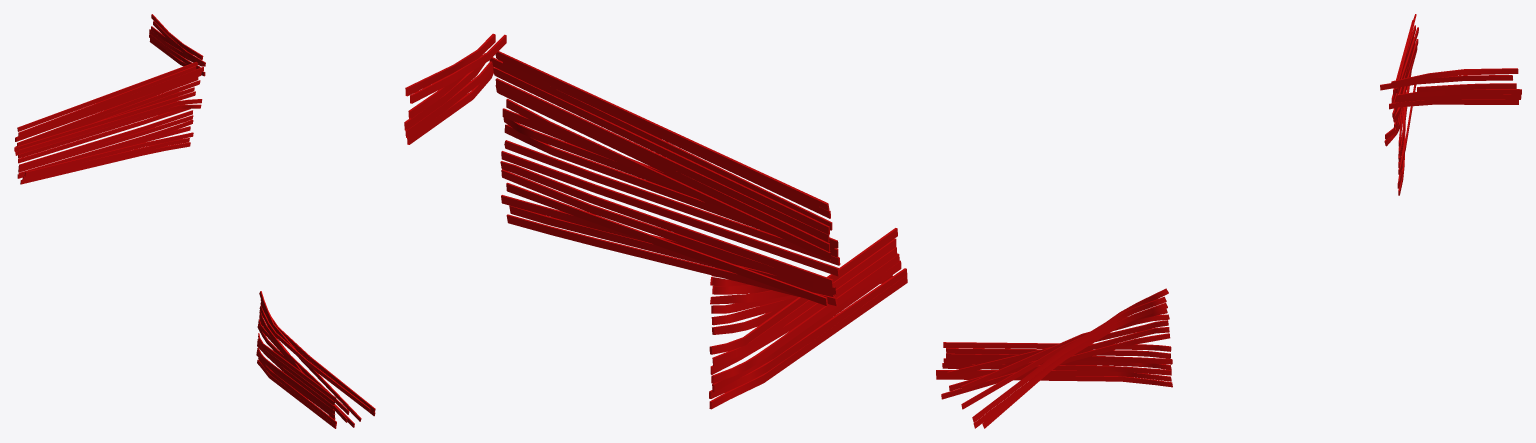
Rendered from MI_SmallLodge_BasemantWall.fbx.
3 renders of one model, left to right at view 1: azimuth 30°, elevation 25°; view 2: azimuth 150°, elevation 25°; view 3: azimuth 270°, elevation 25°, orthographic. The views are drawn at different scales.
Visible parts, largest first — view 1: SM_ST_SmallLodge01.mo, TODELETE; view 2: SM_ST_SmallLodge01.mo, TODELETE; view 3: TODELETE, SM_ST_SmallLodge01.mo.
Boxes of the visible parts, x1,y1,x2,y2 form: SM_ST_SmallLodge01.mo: (14,14,205,184); TODELETE: (256,291,375,428); SM_ST_SmallLodge01.mo: (404,33,840,305); TODELETE: (709,228,907,409); TODELETE: (936,288,1172,428); SM_ST_SmallLodge01.mo: (1380,14,1521,195).
Bounding box in the file's own units: 674 × 1295 × 864.
